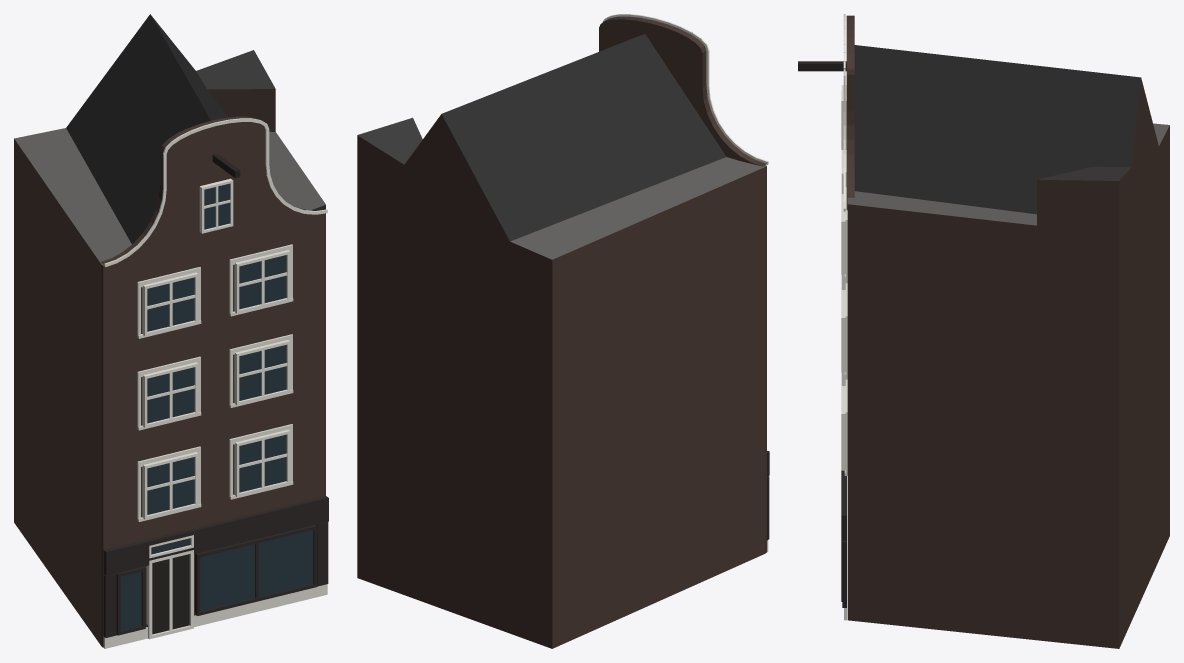
3 views of the same model, side by side, from view 1: azimuth 30°, elevation 25°; view 2: azimuth 150°, elevation 25°; view 3: azimuth 270°, elevation 25° (orthographic). The views are drawn at different scales.
Visible parts, largest first — view 1: spec-0363100012171643; view 2: spec-0363100012171643; view 3: spec-0363100012171643.
Boxes of the visible parts, x1=… form: spec-0363100012171643: x1=14, y1=14, x2=328, y2=648; spec-0363100012171643: x1=357, y1=14, x2=769, y2=648; spec-0363100012171643: x1=798, y1=14, x2=1169, y2=648.
Size of the model in its own units: 7.62 by 13.1 by 8.27.
